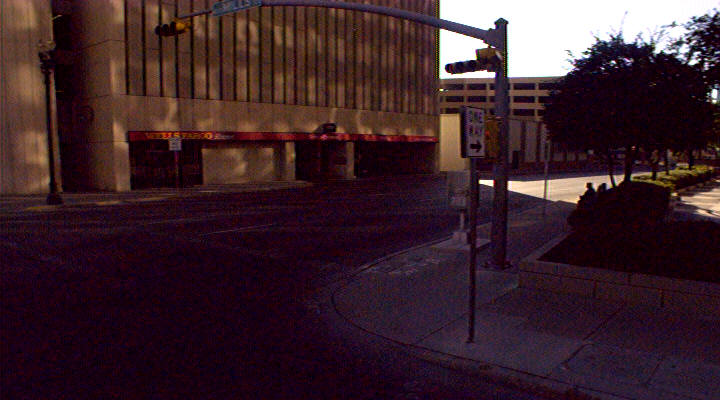Ramp: (271, 263, 518, 356)
